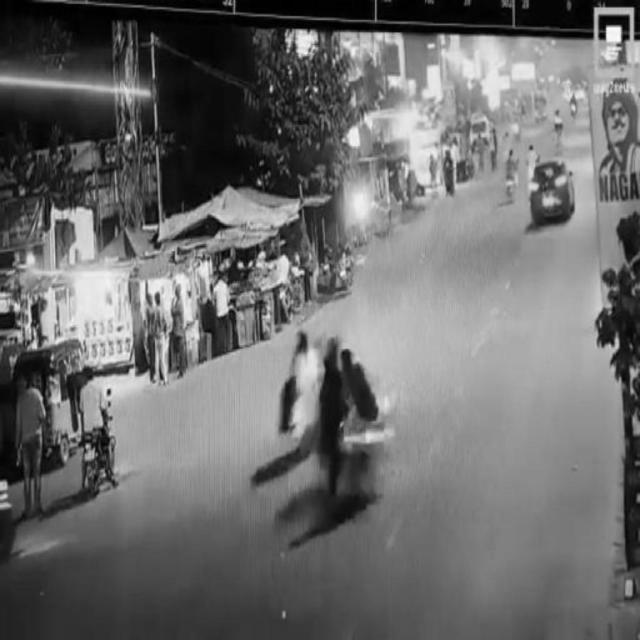accident: (245, 346, 391, 498)
person: (19, 382, 49, 526), (150, 282, 174, 392)
vehicle: (25, 338, 97, 464), (75, 361, 117, 495), (281, 323, 323, 449), (529, 155, 575, 222)
